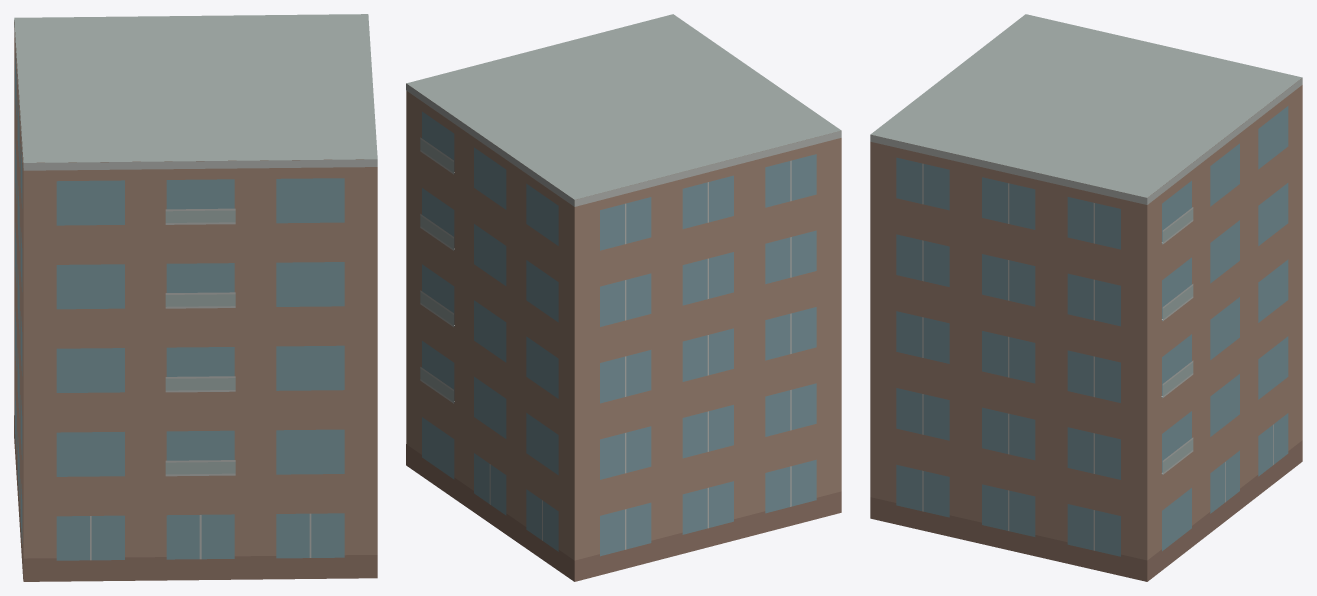
Rendered from survey-upis-32670893.glb.
3 views of the same model, side by side, from view 1: azimuth 30°, elevation 25°; view 2: azimuth 150°, elevation 25°; view 3: azimuth 270°, elevation 25° (orthographic). The views are drawn at different scales.
Parts seen in each view (by area): view 1: survey-upis-32670893.tmp; view 2: survey-upis-32670893.tmp; view 3: survey-upis-32670893.tmp.
Part boxes in pixels (bbox=[...]): survey-upis-32670893.tmp: bbox=[14, 14, 377, 581]; survey-upis-32670893.tmp: bbox=[406, 14, 841, 581]; survey-upis-32670893.tmp: bbox=[870, 14, 1302, 581].
Bounding box in the file's own units: 13.47 × 13.1 × 13.38.
